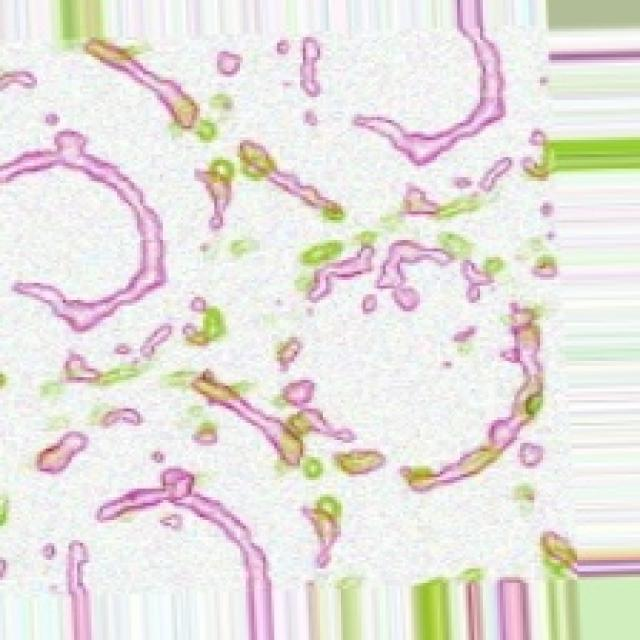Spiral_bacteria: (0, 0, 580, 637)
